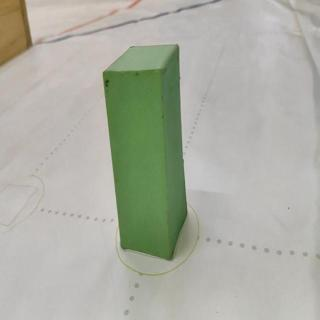greenbox: (102, 42, 189, 261)
